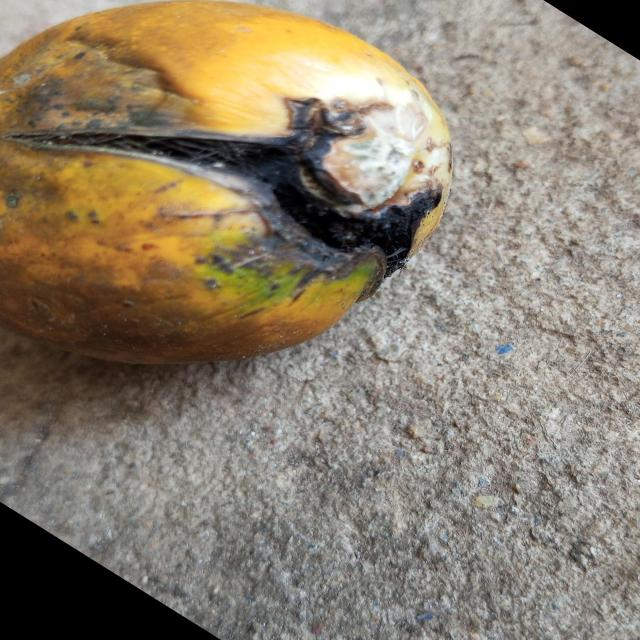damaged: (0, 1, 452, 363)
